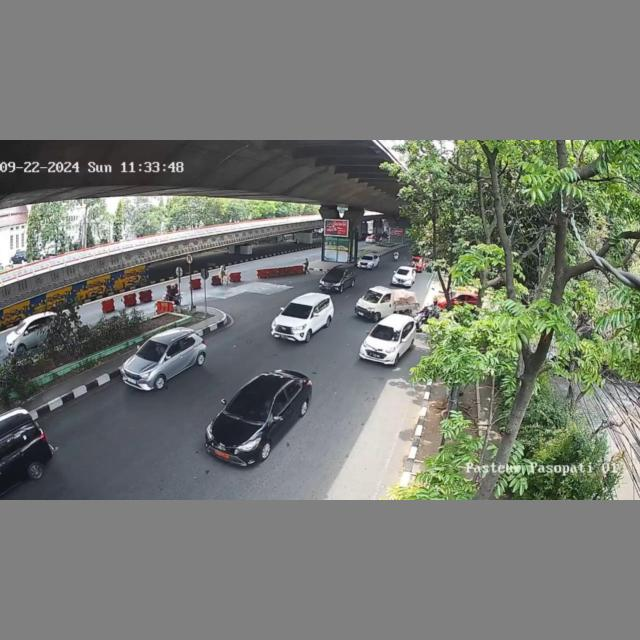windshield: (225, 389, 281, 423), (131, 338, 172, 361), (372, 322, 403, 344), (281, 301, 316, 319), (363, 289, 383, 304), (326, 269, 345, 279)
